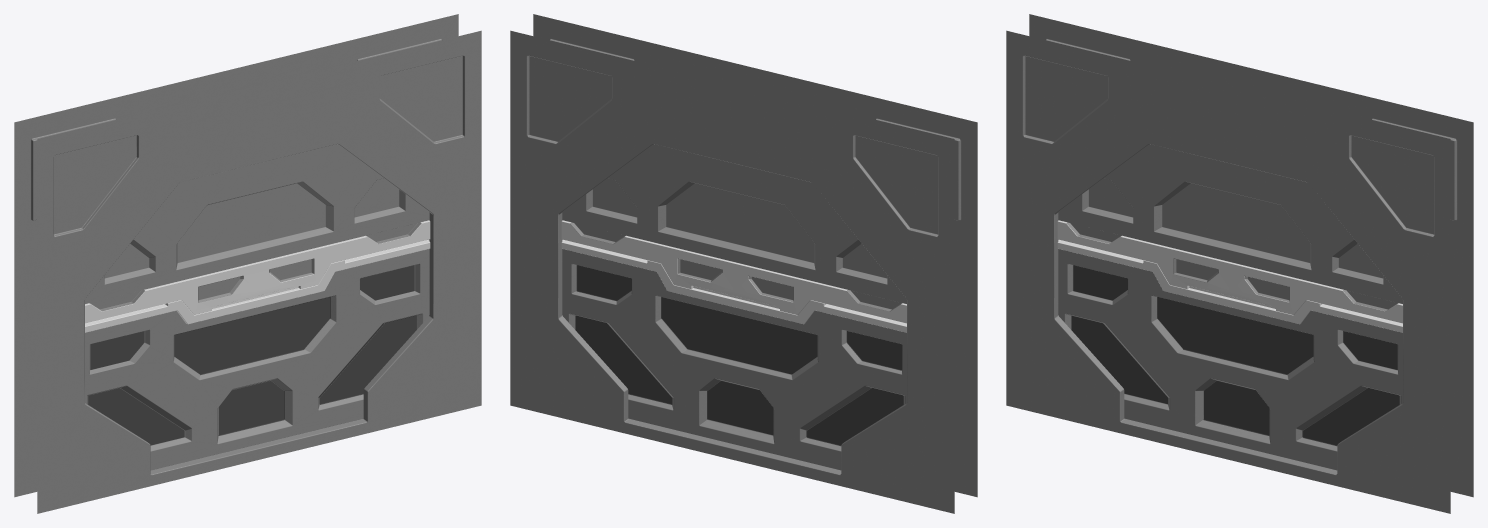
The model's file is Ship_Door_Large_001.fbx.
3 renders of one model, left to right at view 1: azimuth 30°, elevation 25°; view 2: azimuth 150°, elevation 25°; view 3: azimuth 330°, elevation 25°, orthographic.
Visible parts, largest first — view 1: Ship_MedbayDoor_Frame_001, Ship_MedbayDoor_Bottom_001, Ship_MedbayDoor_Top_001; view 2: Ship_MedbayDoor_Frame_001, Ship_MedbayDoor_Bottom_001, Ship_MedbayDoor_Top_001; view 3: Ship_MedbayDoor_Frame_001, Ship_MedbayDoor_Bottom_001, Ship_MedbayDoor_Top_001.
Part boxes in pixels (x1,y1,x2,y2): Ship_MedbayDoor_Frame_001: (14,14,481,513); Ship_MedbayDoor_Bottom_001: (85,239,430,470); Ship_MedbayDoor_Top_001: (85,144,430,323); Ship_MedbayDoor_Frame_001: (510,14,977,513); Ship_MedbayDoor_Bottom_001: (561,239,906,470); Ship_MedbayDoor_Top_001: (561,144,906,323); Ship_MedbayDoor_Frame_001: (1006,14,1473,513); Ship_MedbayDoor_Bottom_001: (1057,239,1402,470); Ship_MedbayDoor_Top_001: (1057,144,1402,323).
Bounding box in the file's own units: 563 × 454 × 49.9.
